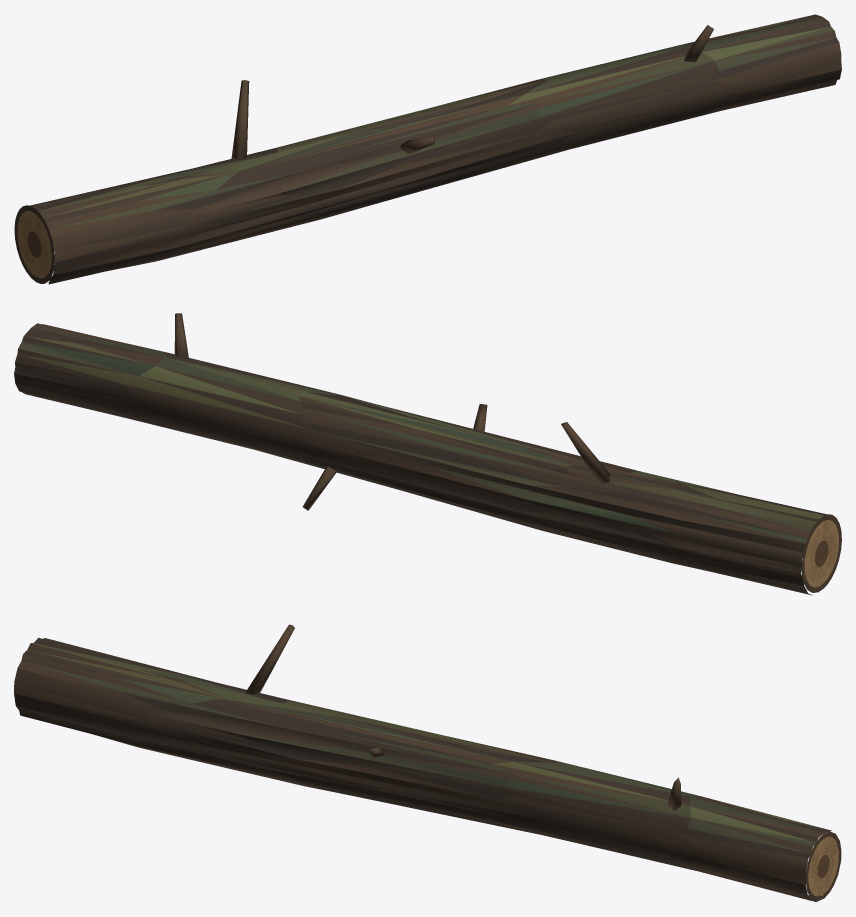
File: log_lod1.glb
The picture shows the model from 3 angles, top to bottom: view 1: azimuth 30°, elevation 25°; view 2: azimuth 150°, elevation 25°; view 3: azimuth 330°, elevation 25°; orthographic projection.
Visible parts, largest first — view 1: log_lod1; view 2: log_lod1; view 3: log_lod1.
Part boxes in pixels (<box>): log_lod1: <box>14,14,841,284</box>; log_lod1: <box>14,313,841,595</box>; log_lod1: <box>14,624,841,902</box>.
Bounding box in the file's own units: 6 × 1.09 × 0.7688.
